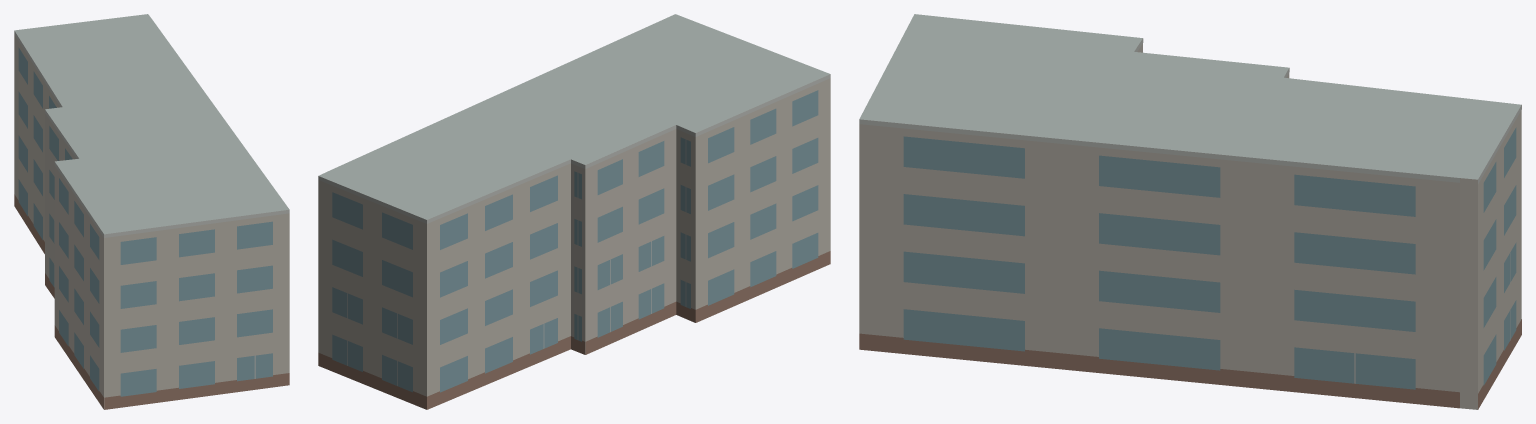
File: survey-upis-32588463.glb
3 renders of one model, left to right at view 1: azimuth 30°, elevation 25°; view 2: azimuth 150°, elevation 25°; view 3: azimuth 270°, elevation 25°, orthographic. The views are drawn at different scales.
Parts seen in each view (by area): view 1: survey-upis-32588463.tmp; view 2: survey-upis-32588463.tmp; view 3: survey-upis-32588463.tmp.
Part boxes in pixels (<box>): survey-upis-32588463.tmp: <box>14,14,289,409</box>; survey-upis-32588463.tmp: <box>318,14,830,409</box>; survey-upis-32588463.tmp: <box>859,14,1521,409</box>.
Bounding box in the file's own units: 18.06 × 11.7 × 30.52.
